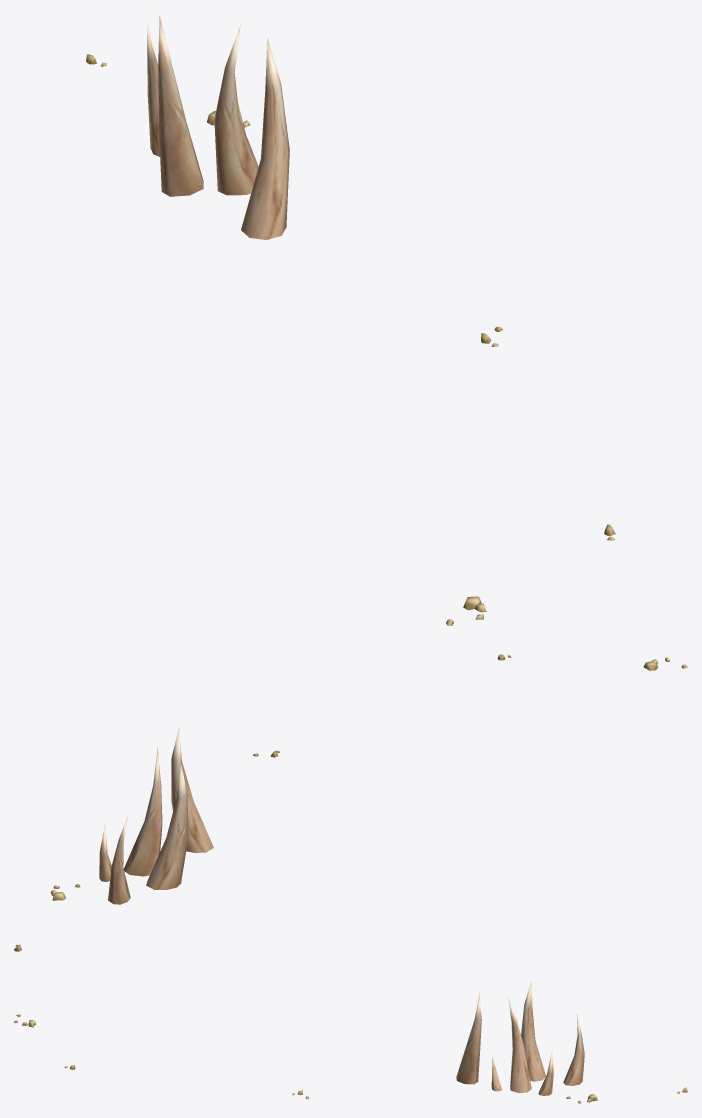
File: area_03_29.fbx
3 renders of one model, top to bottom at view 1: azimuth 30°, elevation 25°; view 2: azimuth 150°, elevation 25°; view 3: azimuth 270°, elevation 25°, orthographic. The views are drawn at different scales.
Parts seen in each view (by area): view 1: area_03_29; view 2: area_03_29; view 3: area_03_29.
Boxes of the visible parts, x1,y1,x2,y2 form: area_03_29: (86, 15, 615, 625); area_03_29: (14, 654, 687, 951); area_03_29: (14, 981, 687, 1103).
Bounding box in the file's own units: 10.73 × 5.14 × 34.37.
